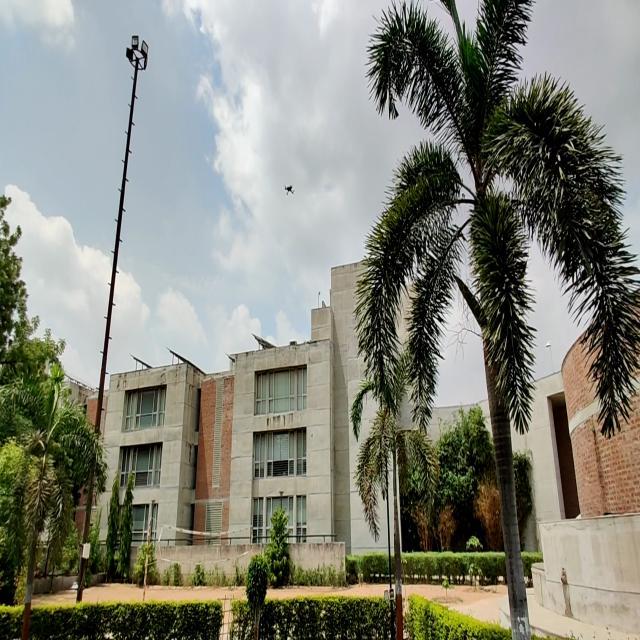drone: (274, 183, 302, 196)
